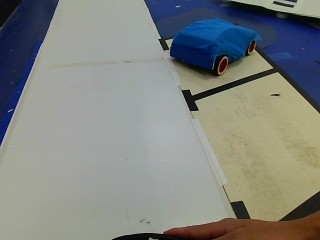car: (166, 19, 258, 76)
